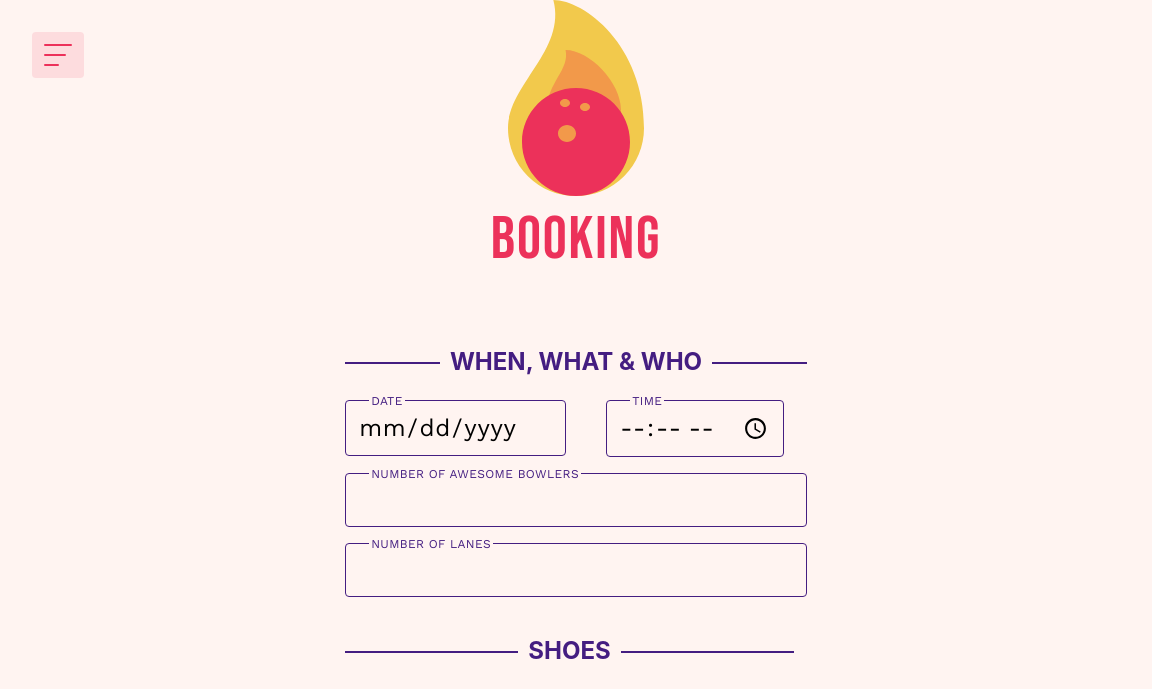
it: Som användare vill jag kunna navigera mellan boknings-och bekräftelsevyn. › Om användaren navigerar till bekräftelsevyn och det finns en bokning sparad i session storage ska denna visas.
Note: now try confirmation page
Step 1. Click the 2nd picture → (58, 55), box [32,32,84,78]
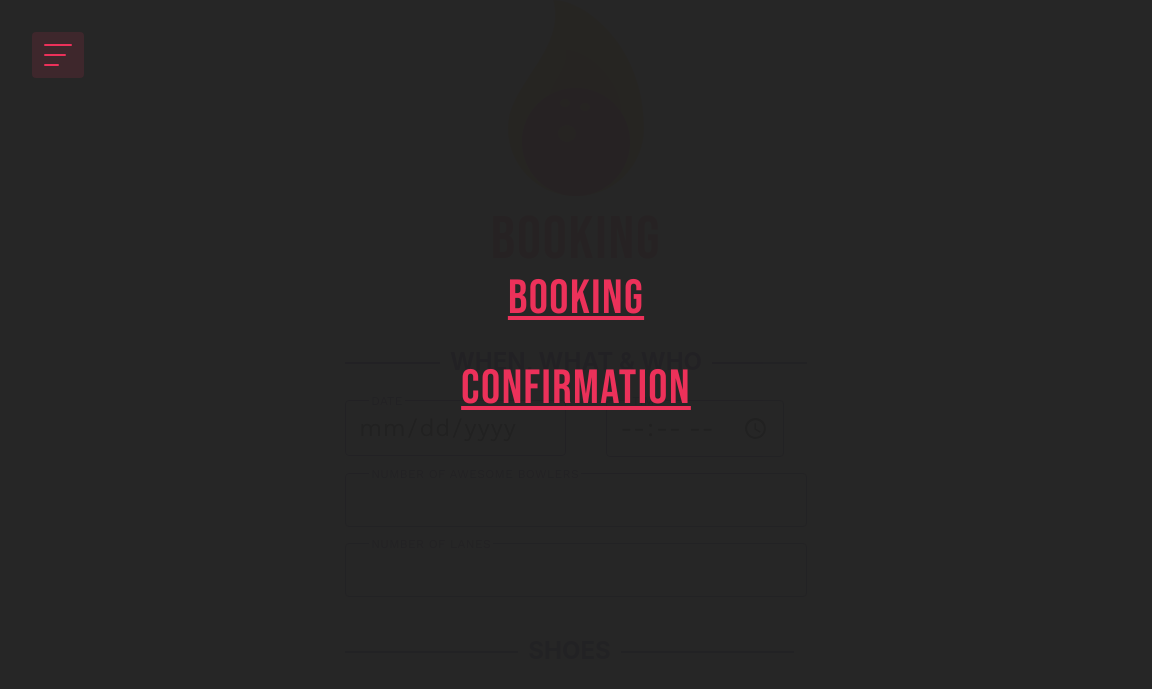
Step 2. Click the link "Confirmation" → (576, 389), box [461,360,691,418]
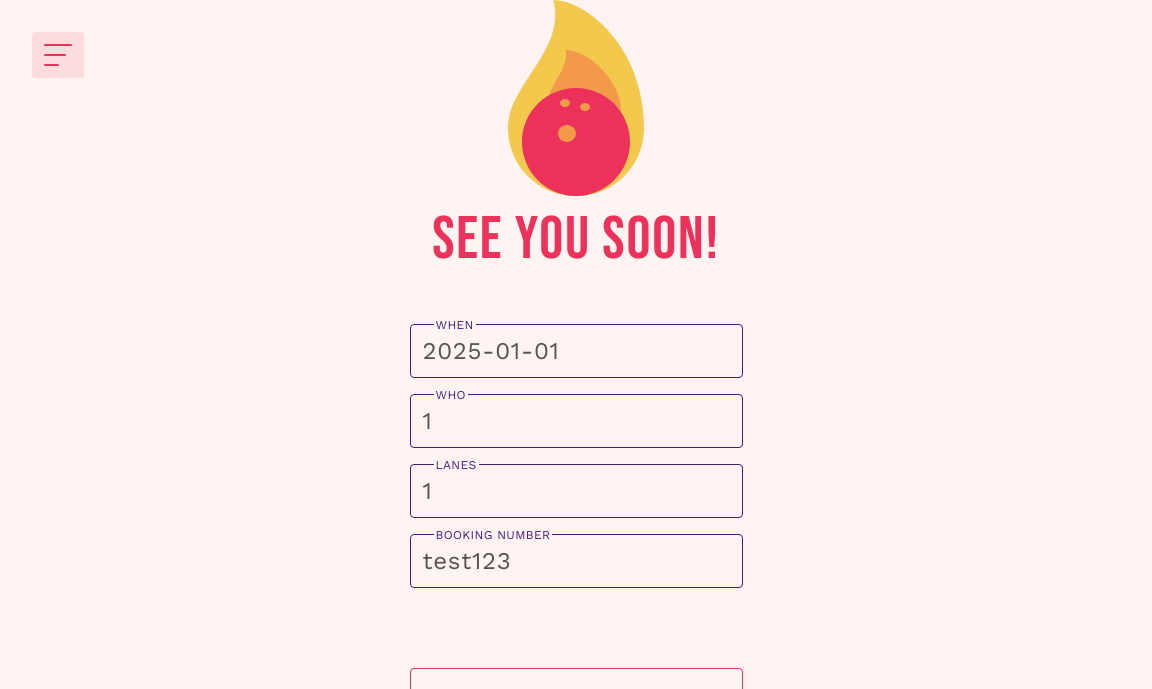
expect the text "When" is shown: met, box [434,318,476,332]
expect the text "Who" is shown: met, box [434,388,468,402]
expect the text "Lanes" is shown: met, box [434,458,479,472]
